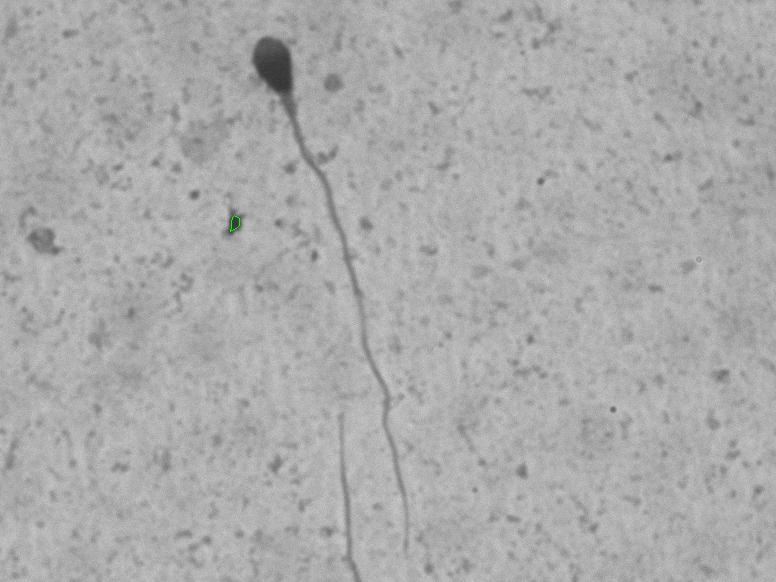Normal: (242, 21, 442, 551)
